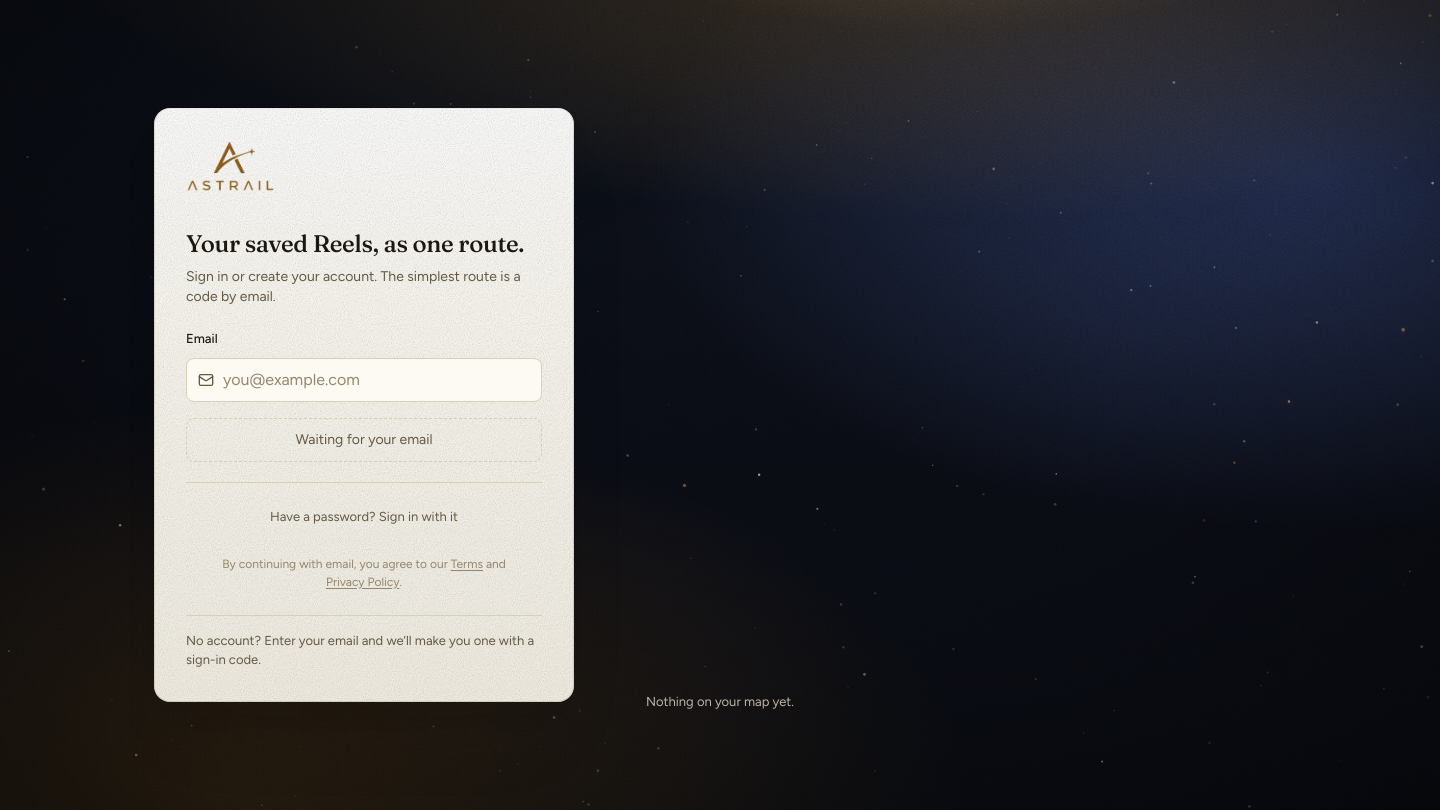
Scenario: password sign-in › names a disabled email provider instead of blaming the password
The image size is (1440, 810).
Click the button "Have a password? Sign in with it" at coordinates (364, 517), box [186,499,542,535]
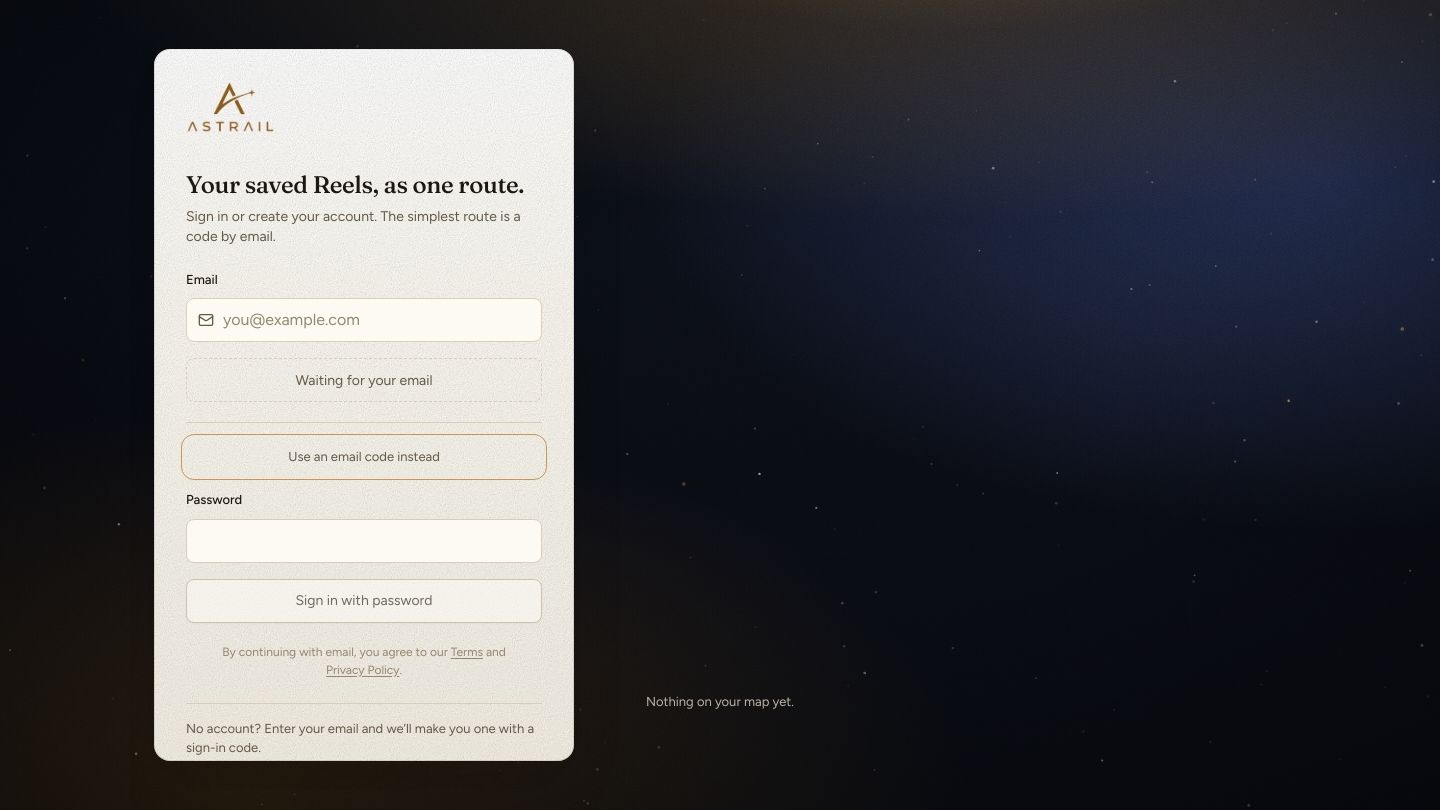
Type "judge@example.com" into the field labelled "Email" at coordinates (364, 320), box [186,298,542,342]
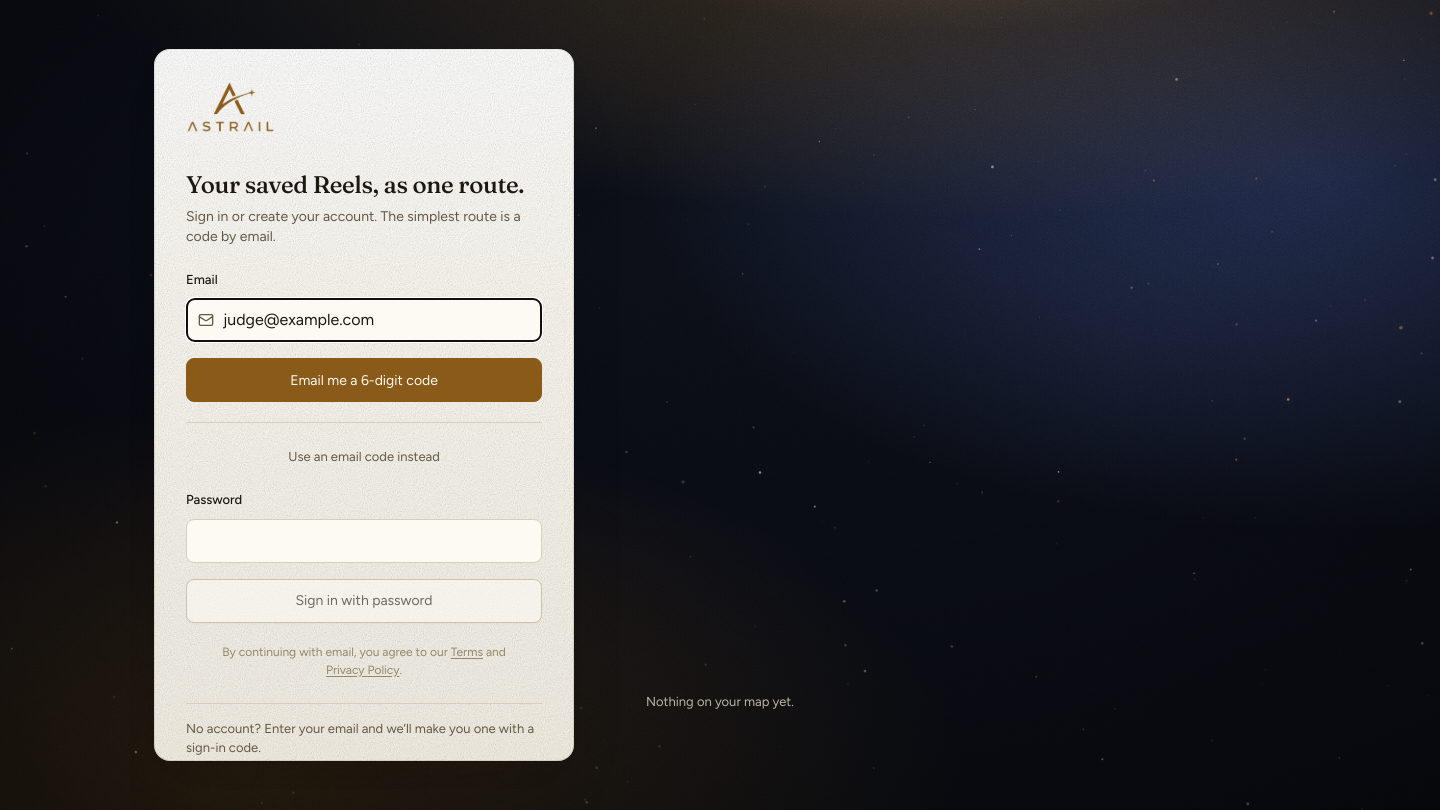
Type "demo-password" into the password field labelled "Password" at coordinates (364, 541), box [186,519,542,563]
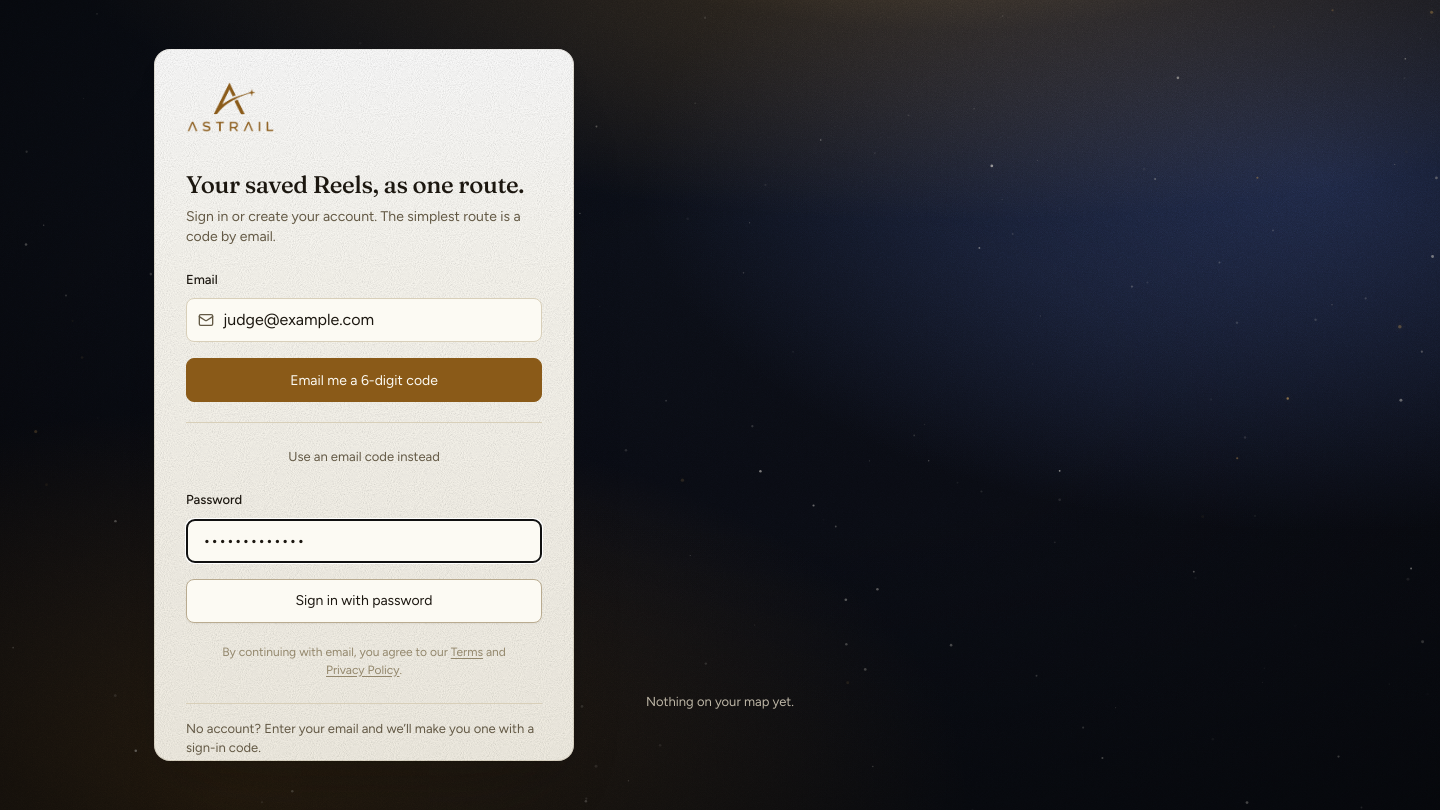
Click the button "Sign in with password" at coordinates (364, 601), box [186,579,542,623]
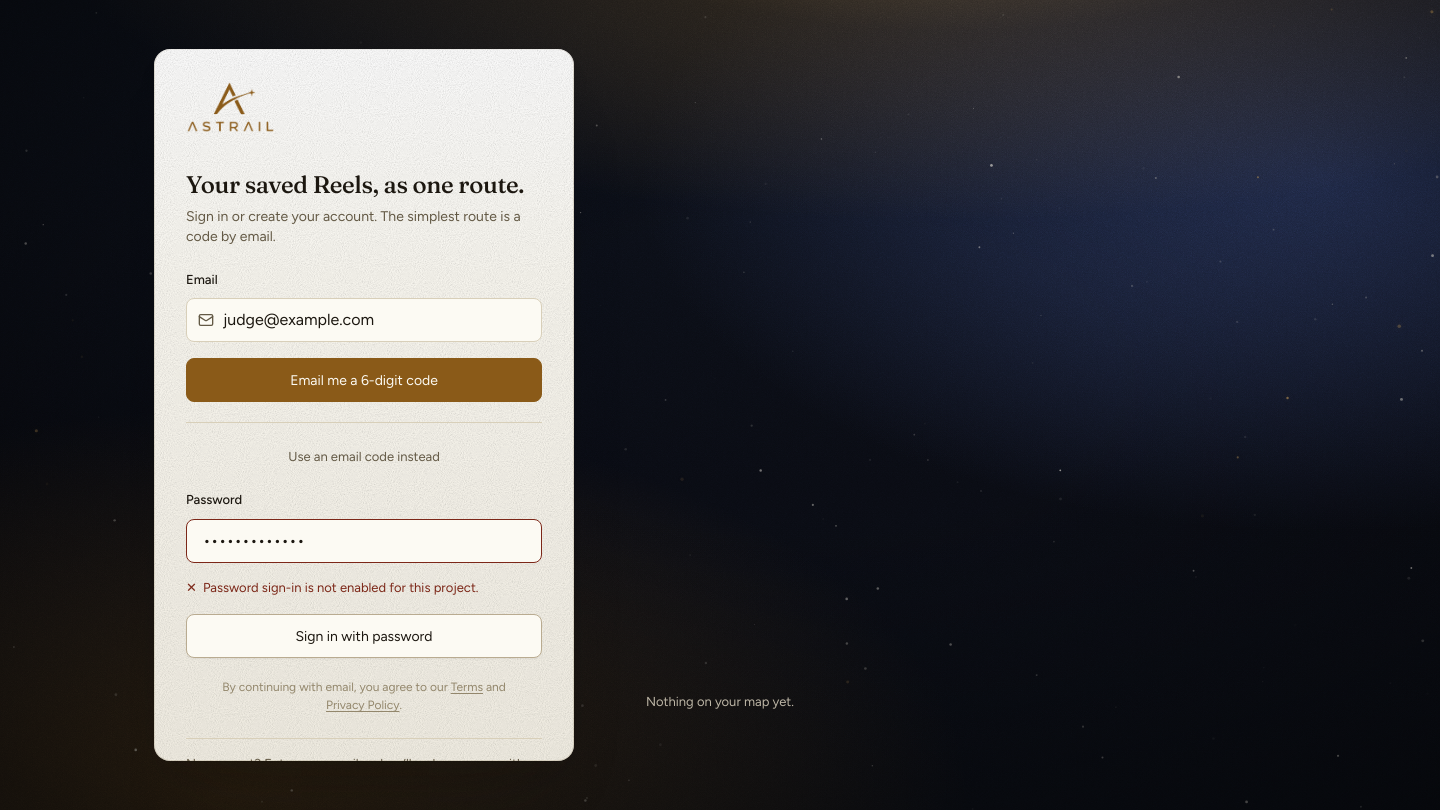
Check: the message does not show "wrong password", box [186,581,478,596]
Check: the message shows "Password sign-in is not enabled for this project.", box [203,581,478,596]
